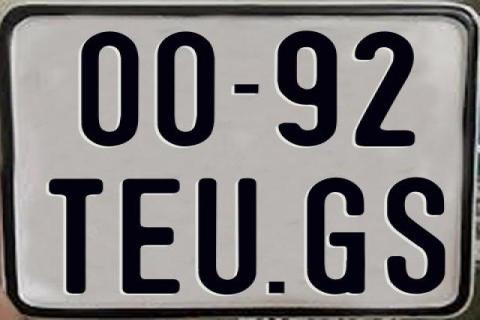0: (352, 31, 418, 148), (277, 31, 338, 151), (79, 29, 138, 145), (154, 31, 213, 147)
E: (120, 178, 178, 298)
G: (305, 176, 363, 297)
S: (385, 176, 447, 294)
T: (48, 176, 102, 294)
U: (195, 178, 256, 294)
